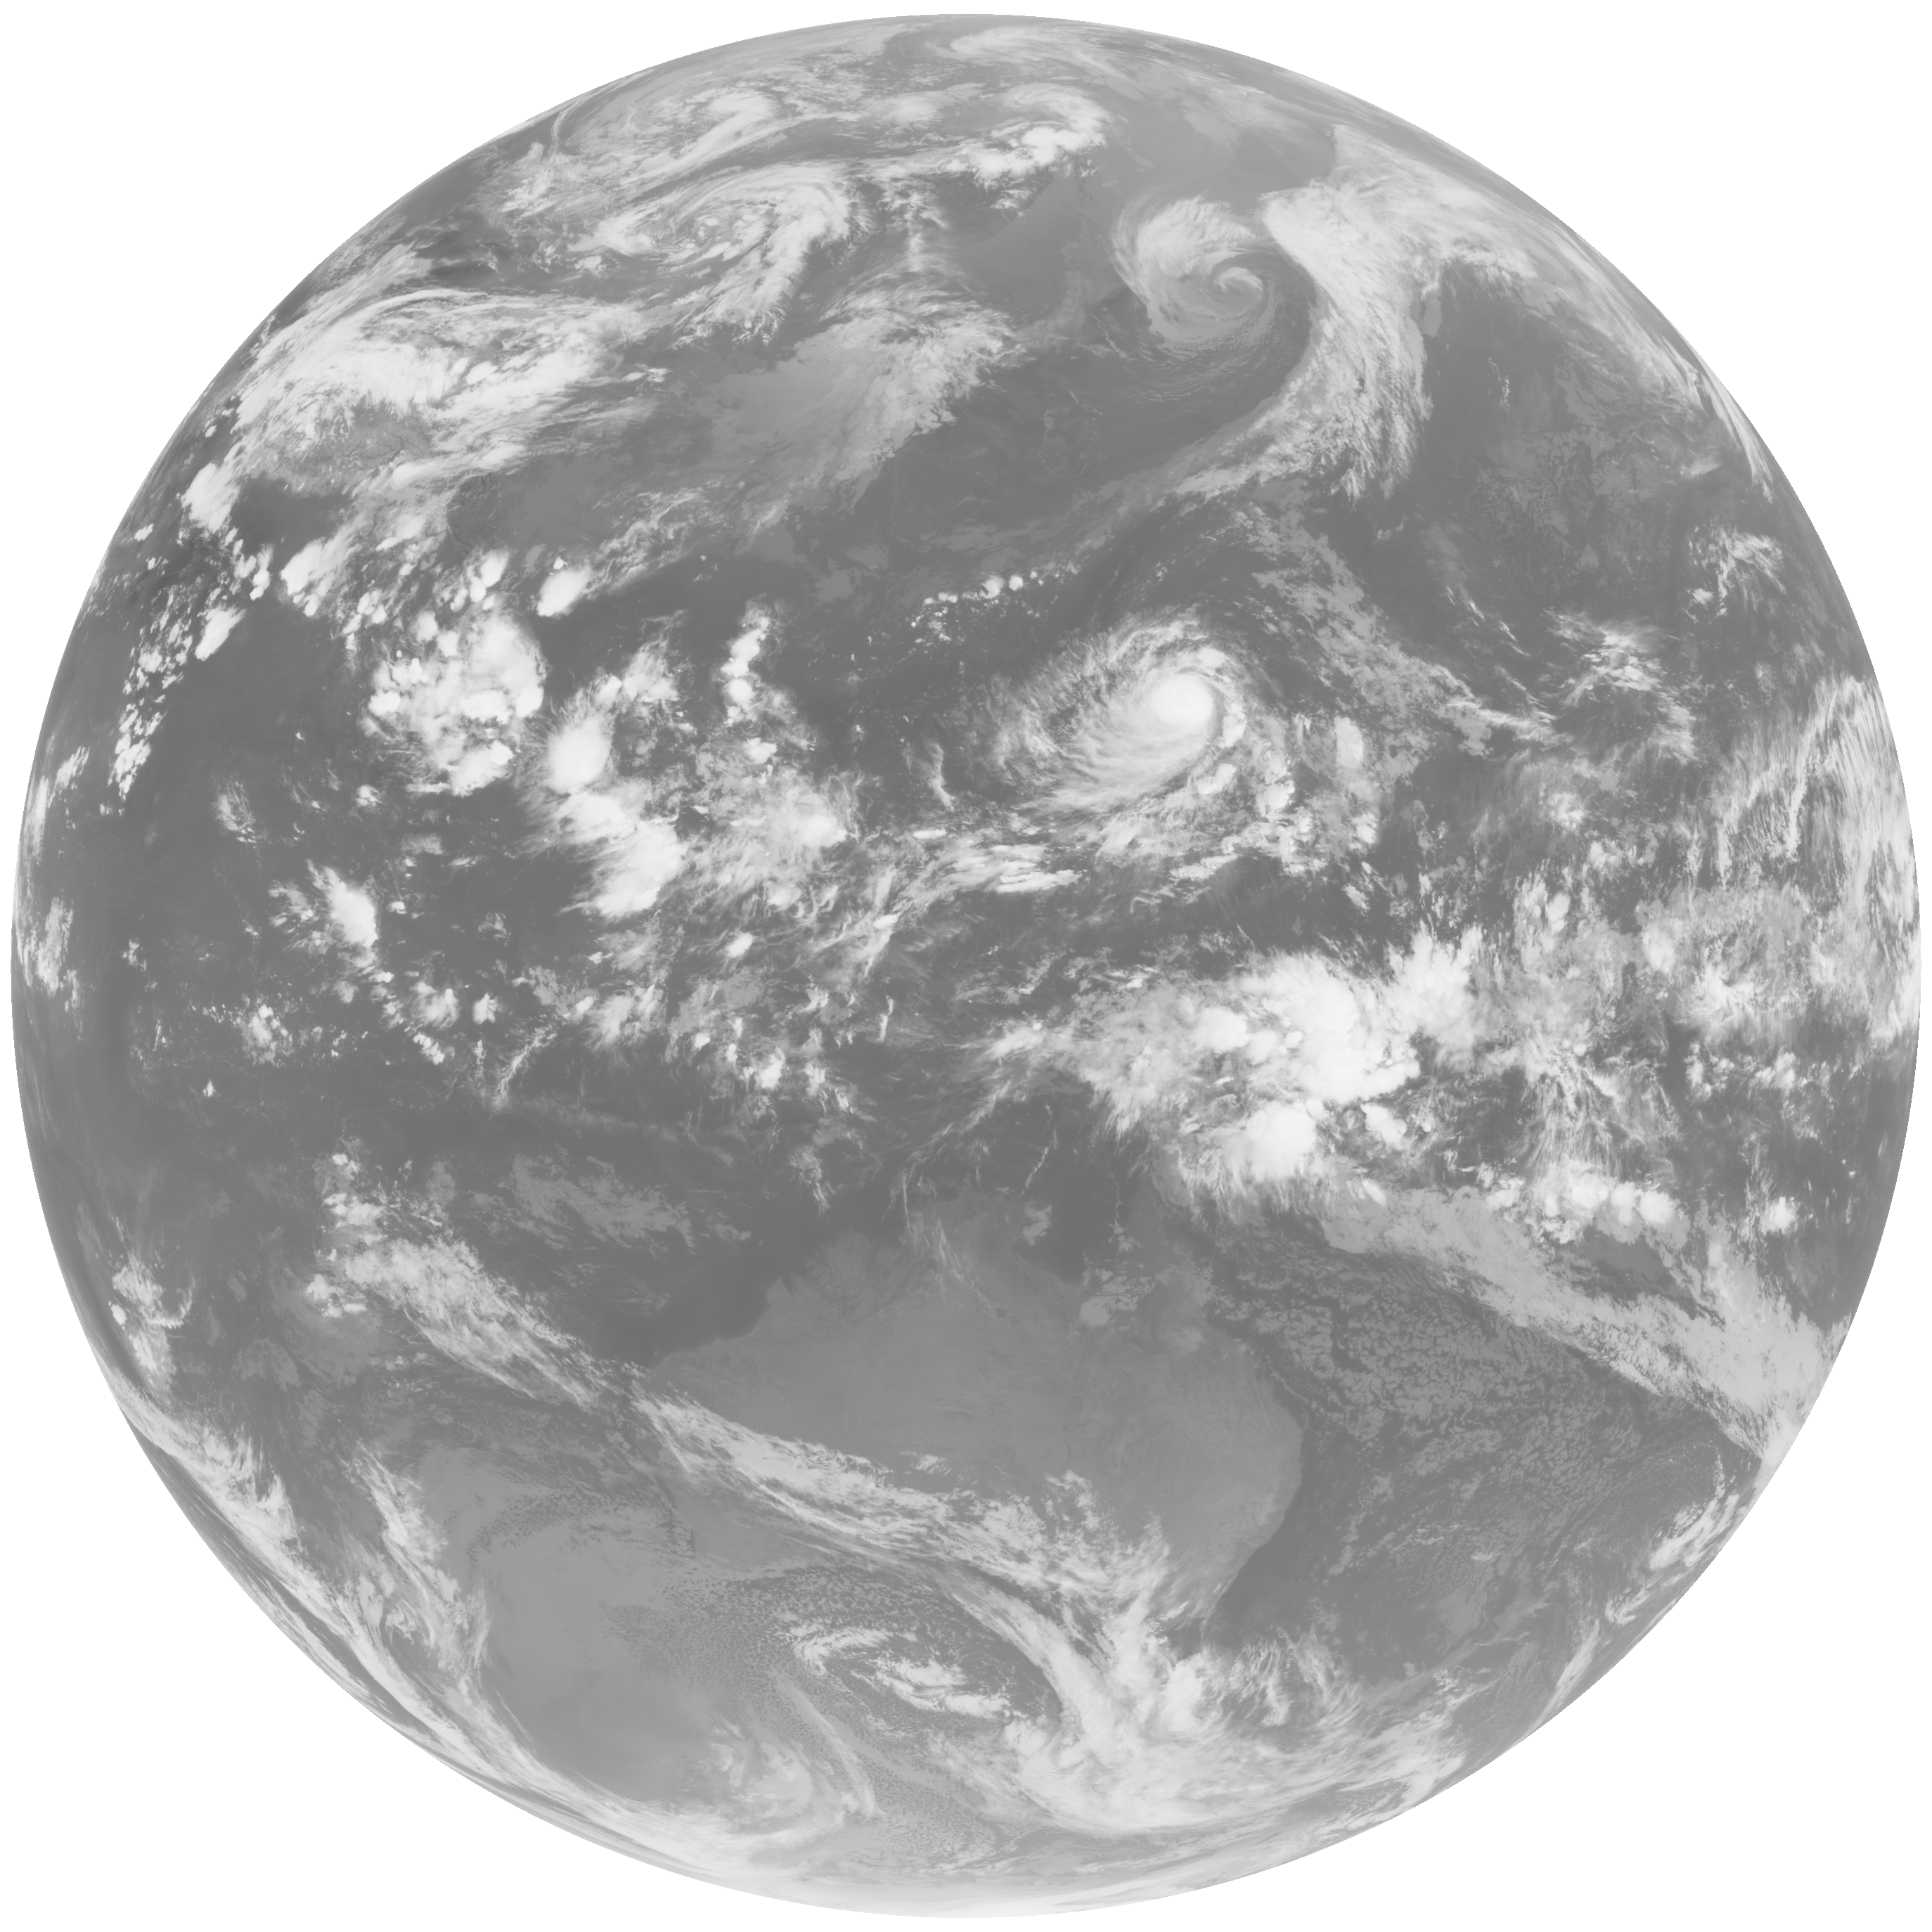typhoon: (908, 554, 1391, 890)
